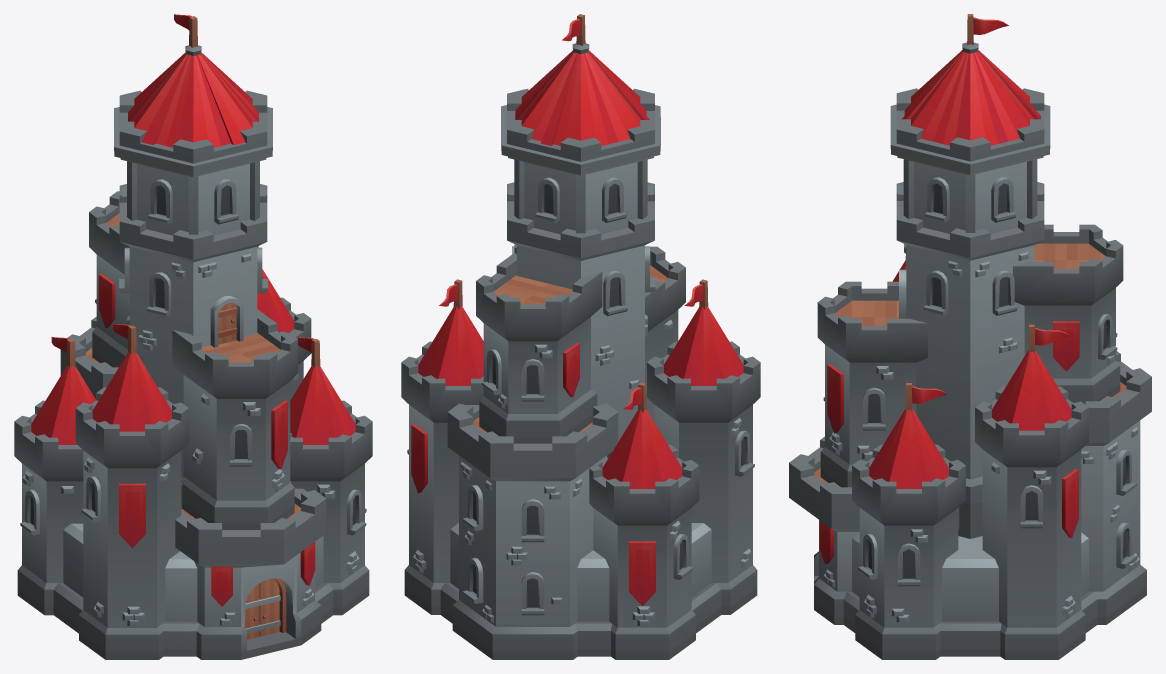
Rendered from kk_castle_v1.glb.
3 renders of one model, left to right at view 1: azimuth 30°, elevation 25°; view 2: azimuth 150°, elevation 25°; view 3: azimuth 270°, elevation 25°, orthographic.
Visible parts, largest first — view 1: building_castle_red; view 2: building_castle_red; view 3: building_castle_red.
Boxes of the visible parts, bbox=[...] form: building_castle_red: bbox=[14, 14, 372, 659]; building_castle_red: bbox=[401, 14, 760, 659]; building_castle_red: bbox=[789, 14, 1151, 659].
Bounding box in the file's own units: 1.98 × 3.98 × 2.26.
1 material, 1 textured.
